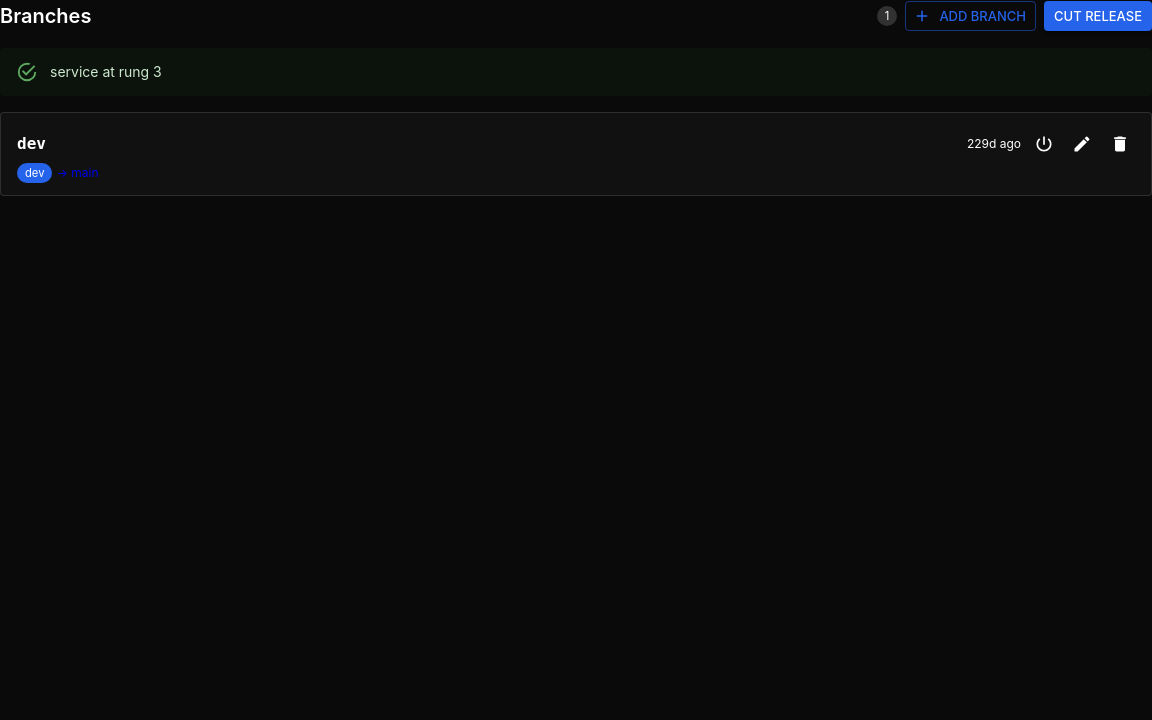
Test case: EditBranchDialog (TK-1685) › edit button opens dialog pre-filled with branch values
This screenshot has width=1152, height=720.
Click the button with test id "branch-edit-dev" at [1082, 144], box top-left (1067, 129), bottom-right (1097, 159)
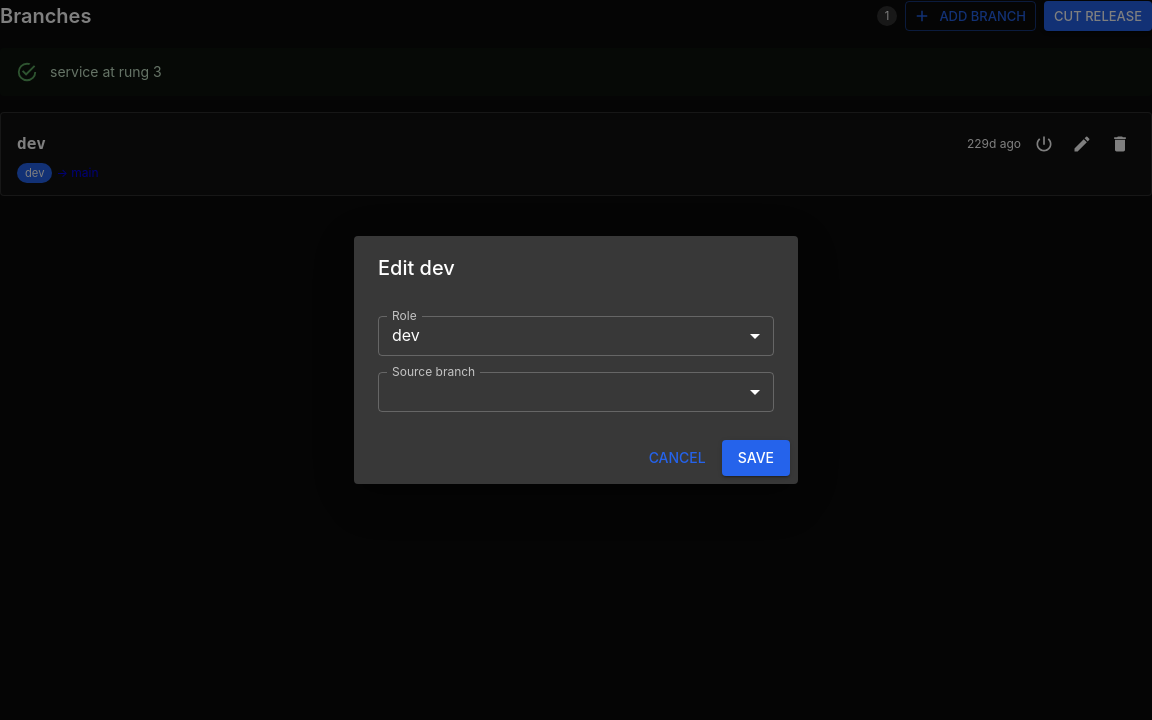
Result: the element with test id "edit-branch-role" is shown at top-left (378, 316), bottom-right (774, 356)
Result: the element with test id "edit-branch-source" is shown at top-left (378, 372), bottom-right (774, 412)
Result: the button with test id "edit-branch-submit" is shown at top-left (722, 440), bottom-right (790, 476)
